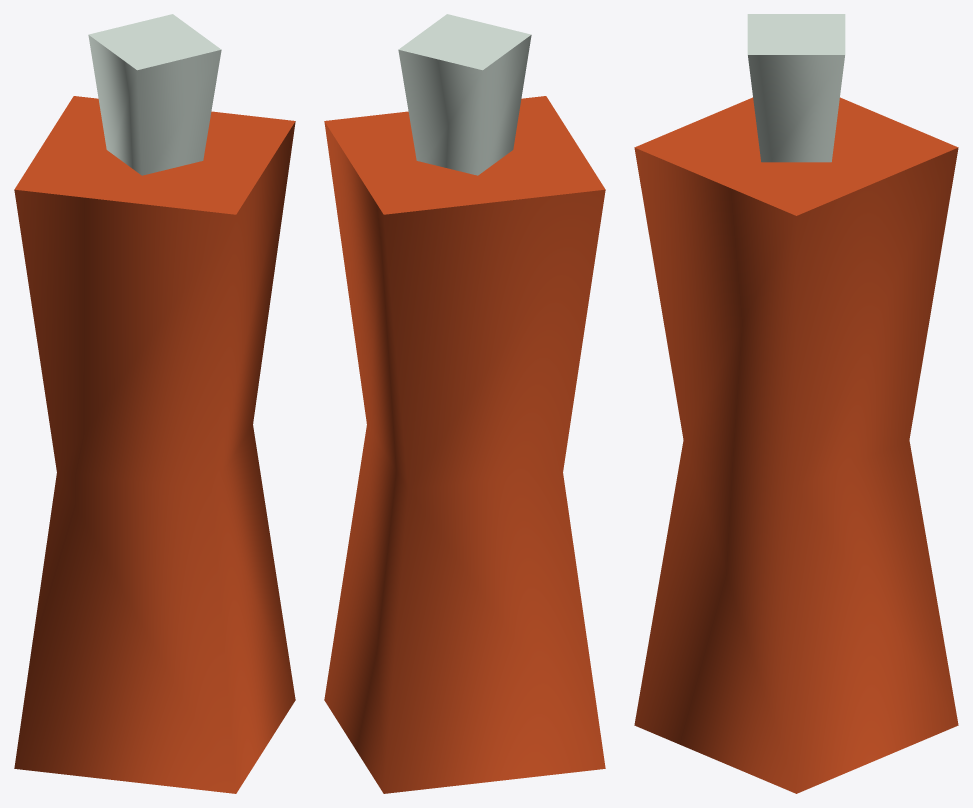
File: SM_Bouteille1.fbx
3 renders of one model, left to right at view 1: azimuth 30°, elevation 25°; view 2: azimuth 150°, elevation 25°; view 3: azimuth 270°, elevation 25°, orthographic.
Parts seen in each view (by area): view 1: Bouteille1; view 2: Bouteille1; view 3: Bouteille1.
Part boxes in pixels (left/top/right/bottom): Bouteille1: left=14, top=14, right=295, bottom=793; Bouteille1: left=324, top=14, right=605, bottom=793; Bouteille1: left=634, top=14, right=958, bottom=793.
Size of the model in its own units: 5.29 by 12.45 by 5.29.
